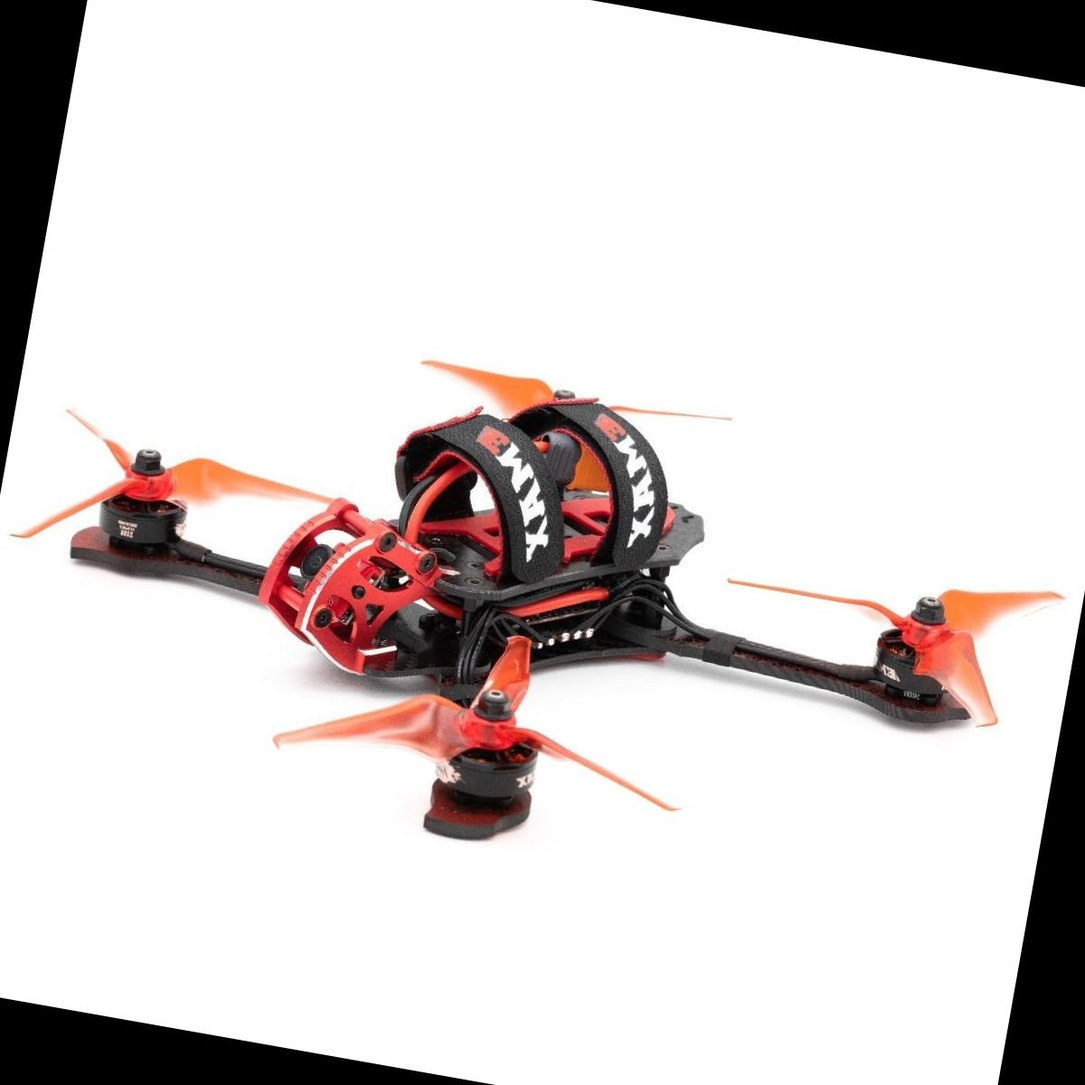drone: (0, 234, 1064, 929)
